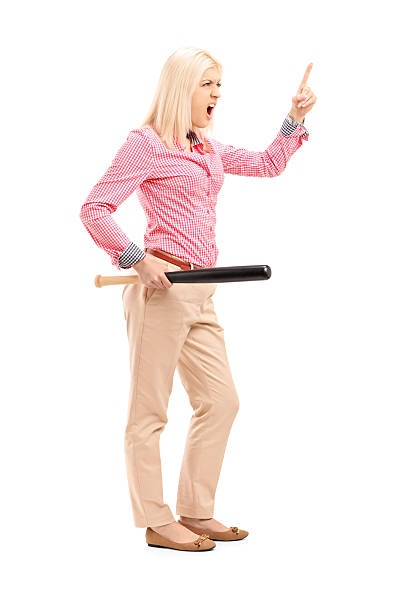bita: (89, 263, 268, 286)
